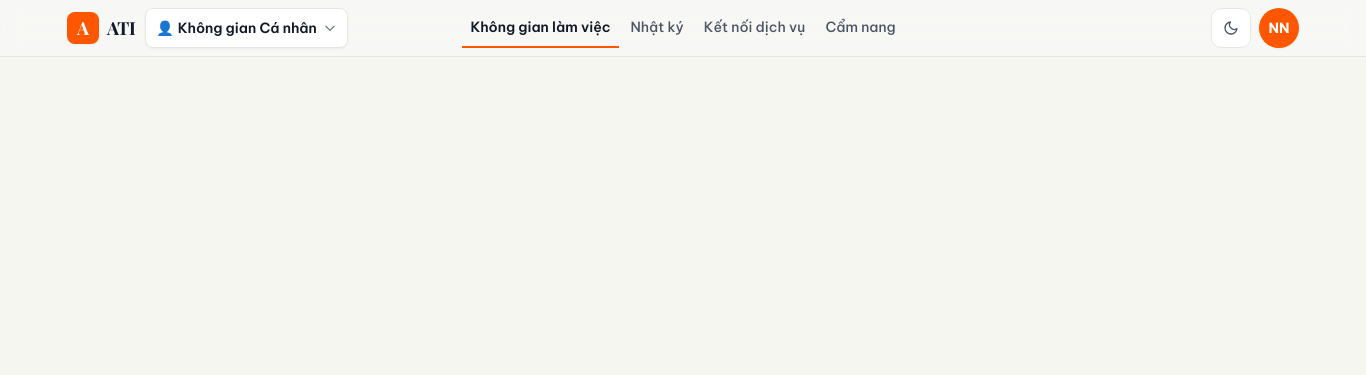
Scenario: Personal and Workspace Auth (Task 5) › 3. WorkspaceSwitcher on MainNav & X-Workspace-Id header › renders Personal Workspace and switches to organization workspace, sending X-Workspace-Id
// Click to open switcher dropdown
Step 1. Click the button with aria-label "Không gian làm việc:" → (246, 28), box [145,8,348,48]
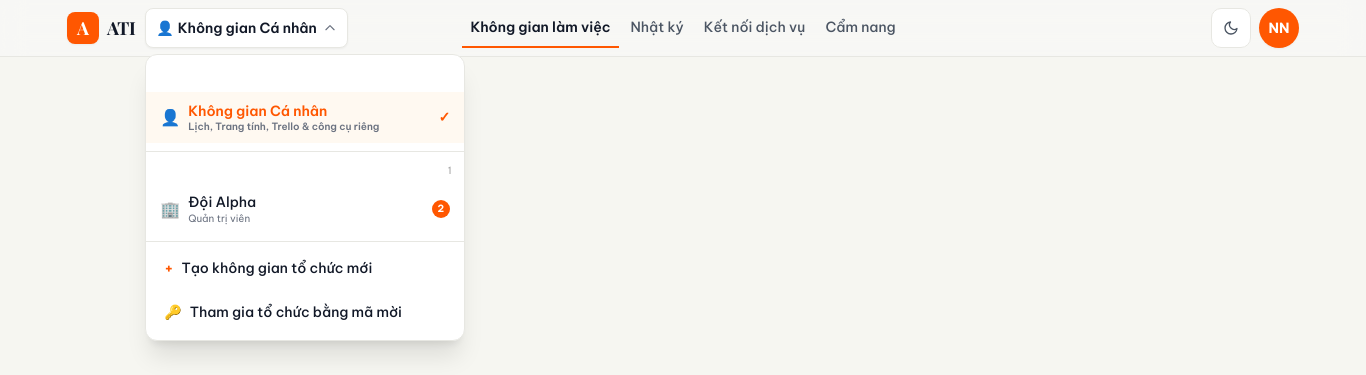
Now the text "Đội Alpha" is shown
// Switch to Đội Alpha
Step 2. Click the text "Đội Alpha" → (222, 202), box [188,193,256,212]
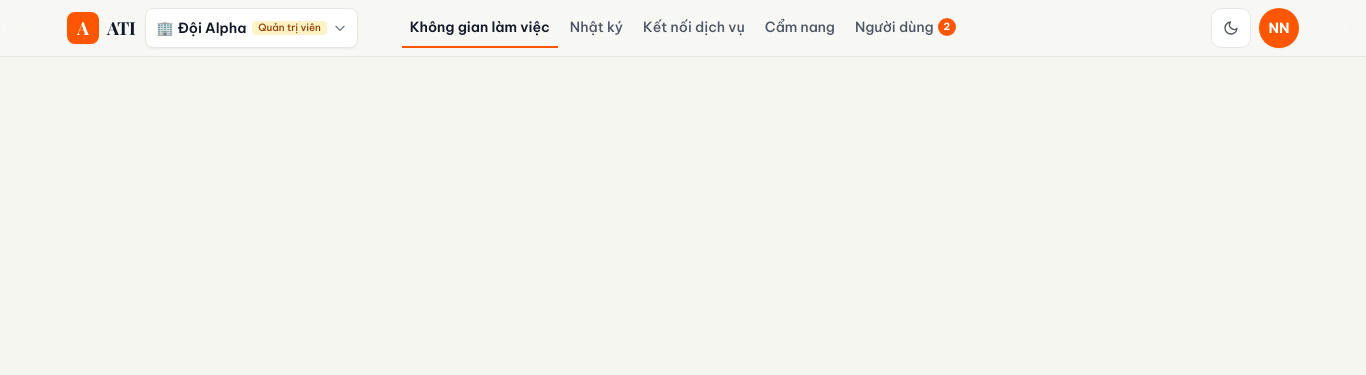
Now the text "Đội Alpha" is shown, box [178,19,246,37]
